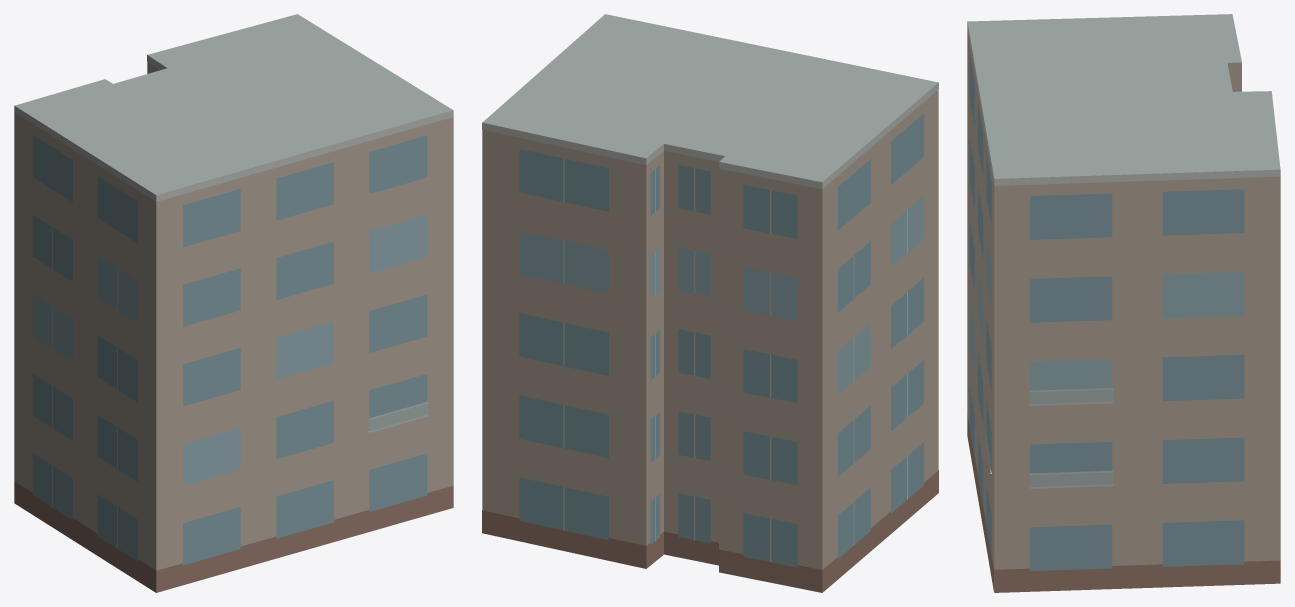
The model's file is survey-upis-32705898.glb.
The picture shows the model from 3 angles, left to right: view 1: azimuth 30°, elevation 25°; view 2: azimuth 150°, elevation 25°; view 3: azimuth 270°, elevation 25°; orthographic projection. The views are drawn at different scales.
Visible parts, largest first — view 1: survey-upis-32705898.tmp; view 2: survey-upis-32705898.tmp; view 3: survey-upis-32705898.tmp.
Part boxes in pixels (x1=…): survey-upis-32705898.tmp: x1=14, y1=14, x2=453, y2=592; survey-upis-32705898.tmp: x1=482, y1=14, x2=938, y2=592; survey-upis-32705898.tmp: x1=967, y1=14, x2=1280, y2=592.
Bounding box in the file's own units: 12.36 × 14.45 × 9.92.
